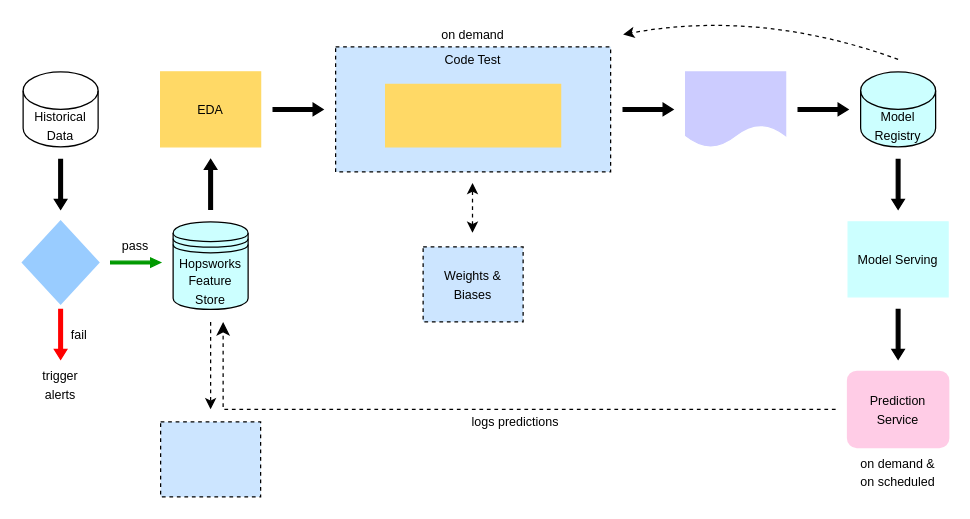
This 970x519 diagram has some shape labels left out. Here are the shapes that lost their labels. From the top down, the centre of each, then its label:
point 472,115: Model Development
point 735,109: Trained Model
point 60,262: GE
point 210,459: Performance Monitoring
